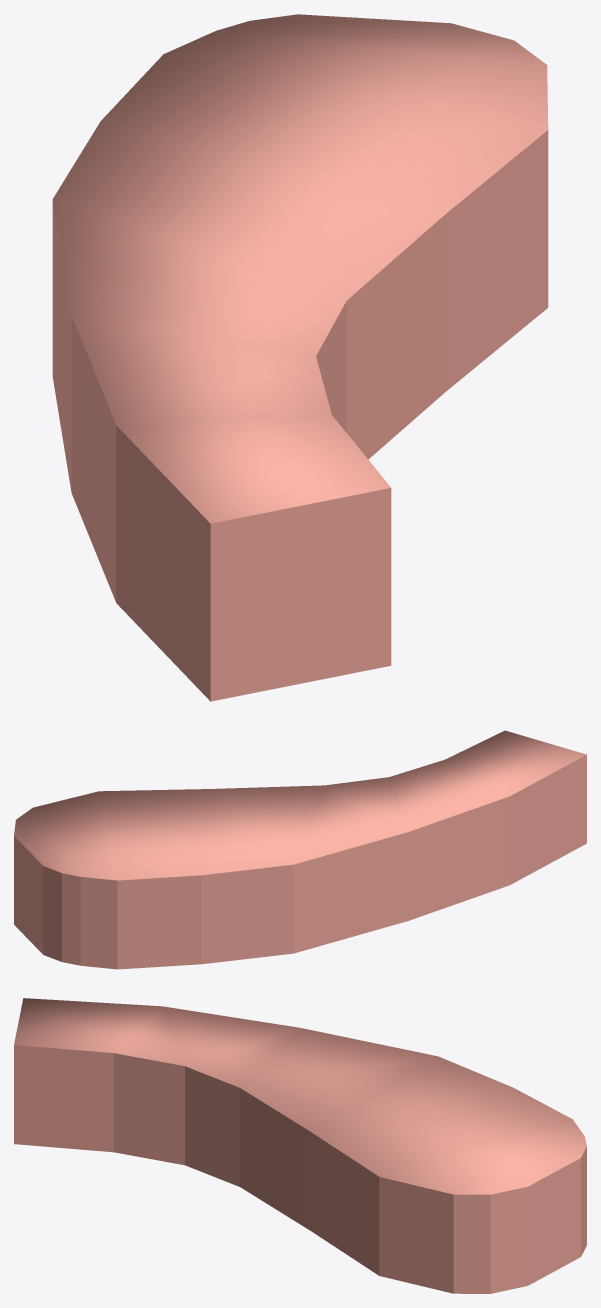
Rendered from rectum.glb.
3 renders of one model, top to bottom at view 1: azimuth 30°, elevation 25°; view 2: azimuth 150°, elevation 25°; view 3: azimuth 270°, elevation 25°, orthographic. The views are drawn at different scales.
Visible parts, largest first — view 1: rectum; view 2: rectum; view 3: rectum.
Boxes of the visible parts, x1,y1,x2,y2 form: rectum: (52,14,548,701); rectum: (14,730,586,969); rectum: (14,998,586,1293).
Bounding box in the file's own units: 3.81 × 0.8968 × 4.7.
